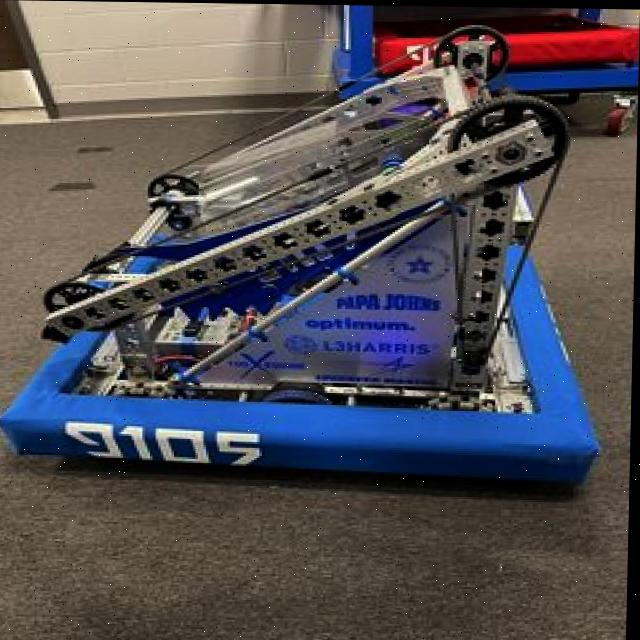robot: (0, 0, 640, 505)
